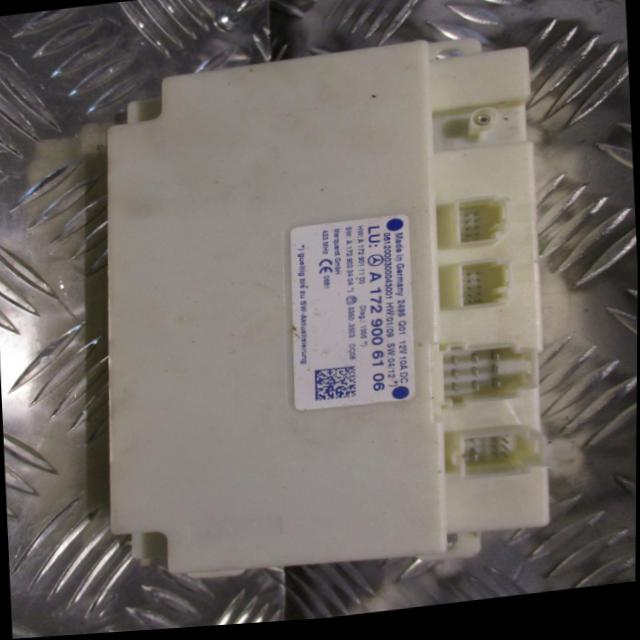datamatrix: (315, 372, 358, 407)
